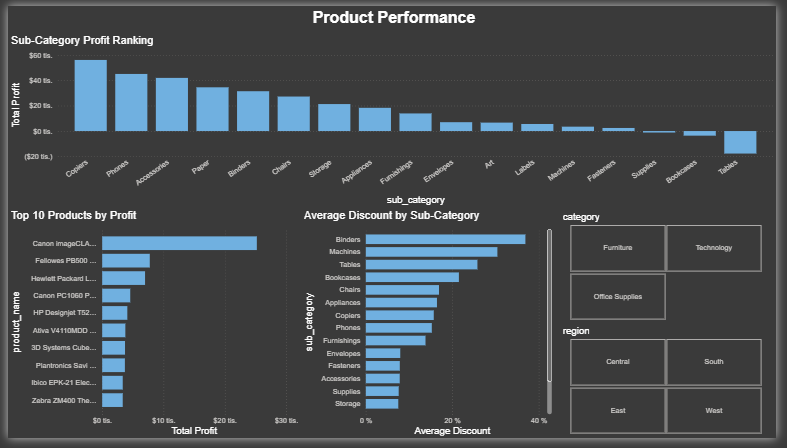

What the dashboard file says about the page in this screenshot:
{"tool":"powerbi","page":{"name":"Product Performance","canvas":[1280,720],"ordinal":1},"visuals":[{"type":"textbox","box":[366.2,0,545.9,47],"z":0},{"type":"clusteredBarChart","title":"Top 10 Products by Profit","fields":{"Category":["Sales.product_name"],"Y":["KPI.Total Profit"]},"box":[0,337.6,488.8,383],"z":1000},{"type":"clusteredBarChart","title":"Average Discount by Sub-Category","fields":{"Category":["Sales.sub_category"],"Y":["KPI.Average Discount"]},"box":[488.8,337.6,423.3,383],"z":2000},{"type":"clusteredColumnChart","title":"Sub-Category Profit Ranking","fields":{"Y":["KPI.Total Profit"],"Category":["Sales.sub_category"]},"box":[0,47.1,1280,290],"z":3000},{"type":"slicer","fields":{"Values":["Sales.category"]},"box":[912.1,337.6,367.9,191.5],"z":4000},{"type":"slicer","fields":{"Values":["Sales.region"]},"box":[912,529,368,191],"z":4001}]}

Visuals, with their boxes in screenshot pixels (x1, y1, x2, y2), scaled from the page's 1280x720 canvas onto the 787x448 screenshot:
textbox: (x1=225, y1=0, x2=561, y2=29)
"Top 10 Products by Profit" clusteredBarChart: (x1=0, y1=210, x2=301, y2=447)
"Average Discount by Sub-Category" clusteredBarChart: (x1=301, y1=210, x2=561, y2=447)
"Sub-Category Profit Ranking" clusteredColumnChart: (x1=0, y1=29, x2=786, y2=210)
slicer - Sales.category: (x1=561, y1=210, x2=786, y2=329)
slicer - Sales.region: (x1=561, y1=329, x2=786, y2=447)
